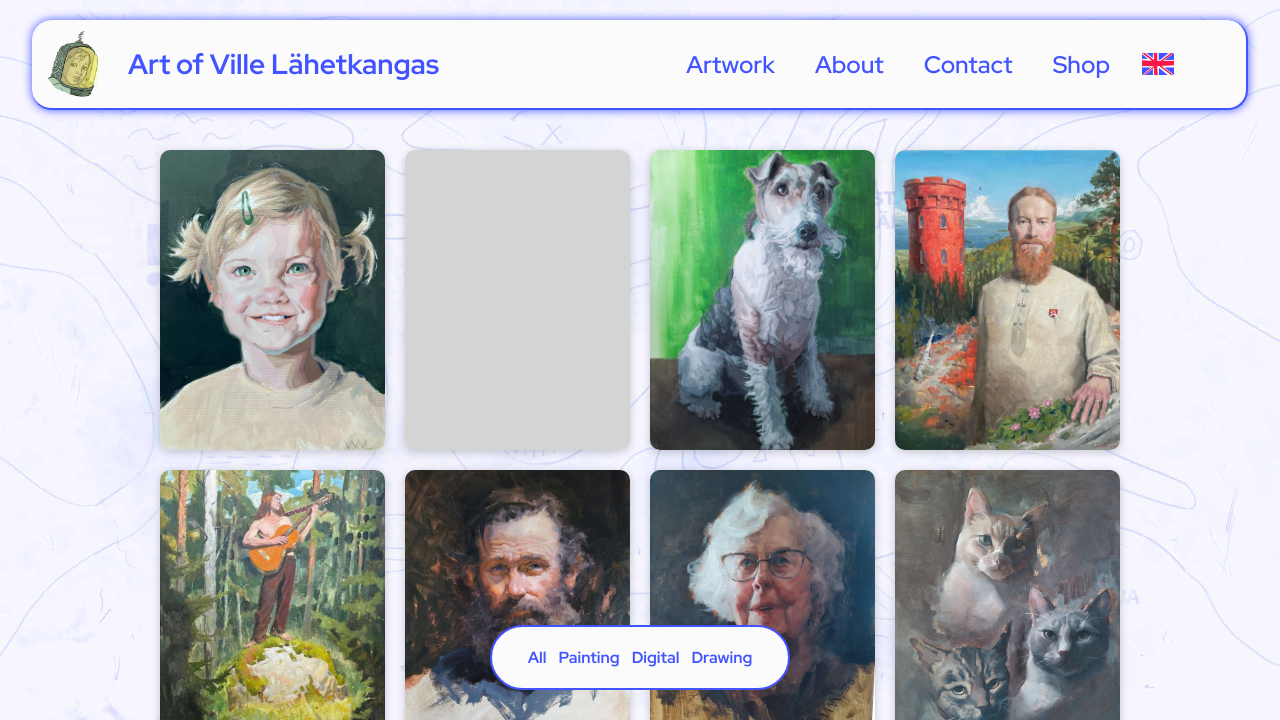
Scenario: About page i18n › shows translated About content when language is toggled
This screenshot has width=1280, height=720.
Note: Navigate to About page
Click the link "About" at (850, 65), box [795, 49, 904, 80]
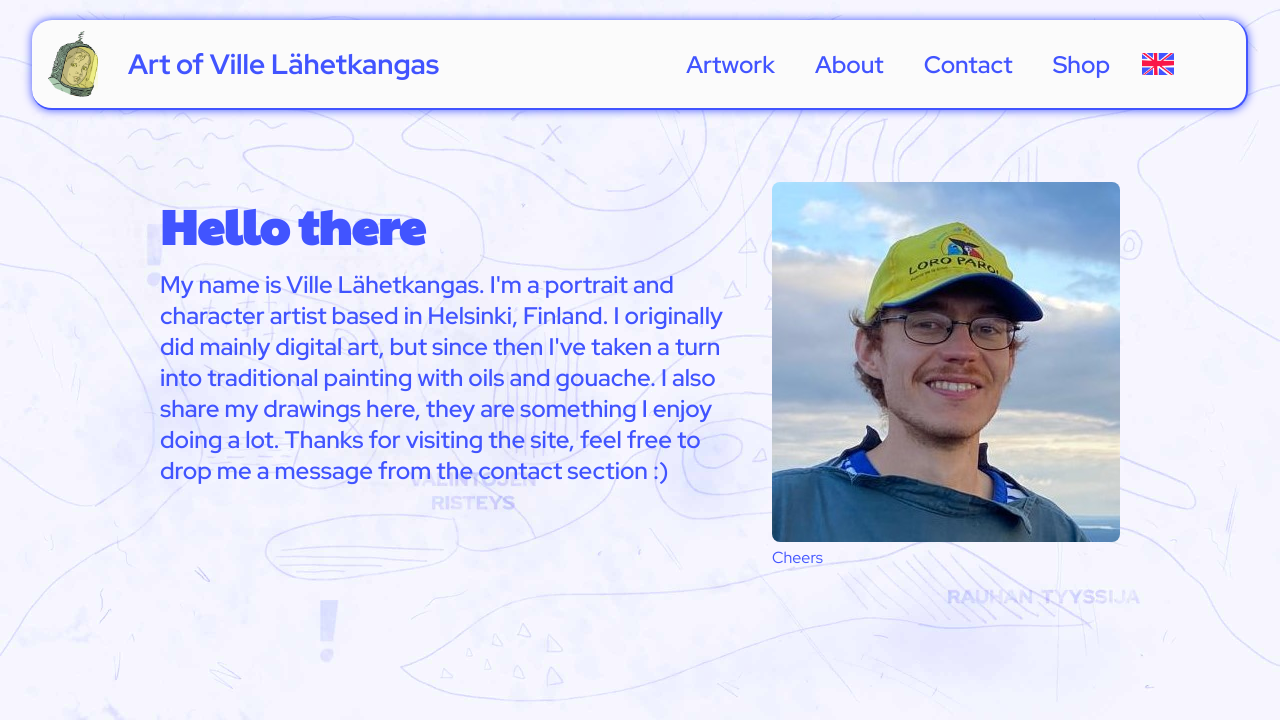
Expected: the heading "Hello there" is shown, [160, 192, 425, 259]
Expected: the text "My name is Ville Lähetkangas" is shown, [160, 269, 723, 486]
Expected: the text "Cheers" is shown, [772, 547, 823, 568]
Note: Toggle to Finnish using header button
Click the button with test id "lang-toggle" at (1158, 64), box [1136, 36, 1180, 92]
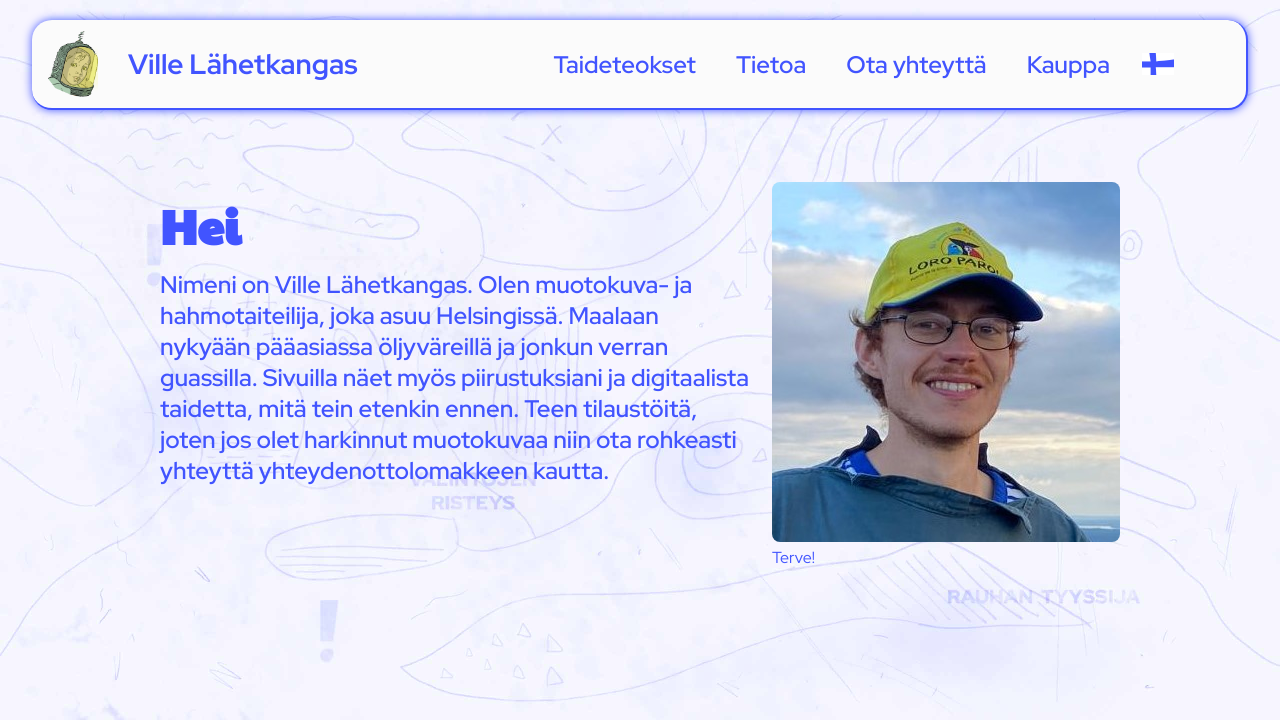
Expected: the heading "Hei" is shown, [160, 192, 241, 259]
Expected: the text "Nimeni on Ville Lähetkangas" is shown, [160, 269, 749, 486]
Expected: the text "Terve!" is shown, [772, 547, 815, 568]
